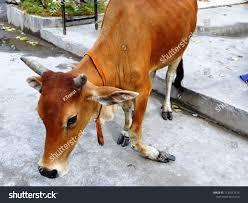fracture: (111, 114, 182, 169)
